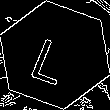L_N: (30, 26, 80, 84)
